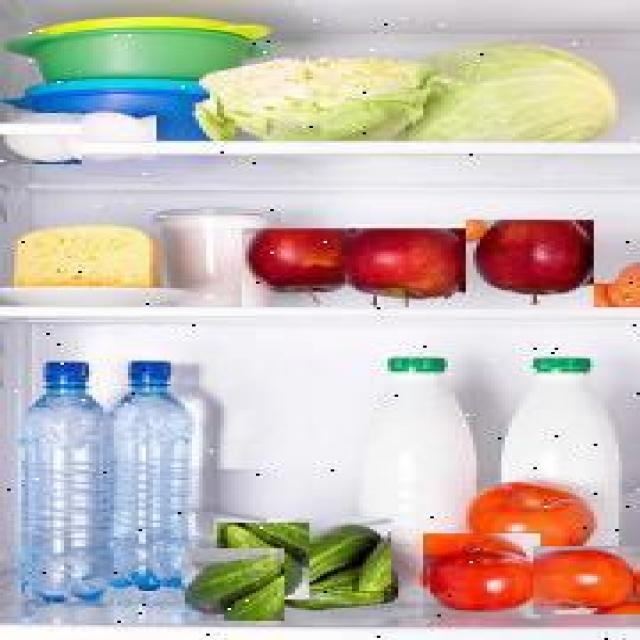apple: (466, 218, 594, 309), (348, 225, 466, 310), (242, 228, 356, 307)
cheese: (14, 219, 164, 287)
cucumber: (267, 518, 391, 591), (182, 548, 284, 621), (217, 522, 309, 600)
egg: (57, 111, 156, 160), (0, 113, 82, 164)
milk: (354, 350, 485, 606)
tomato: (462, 479, 598, 560), (423, 533, 541, 619), (533, 546, 640, 615)
